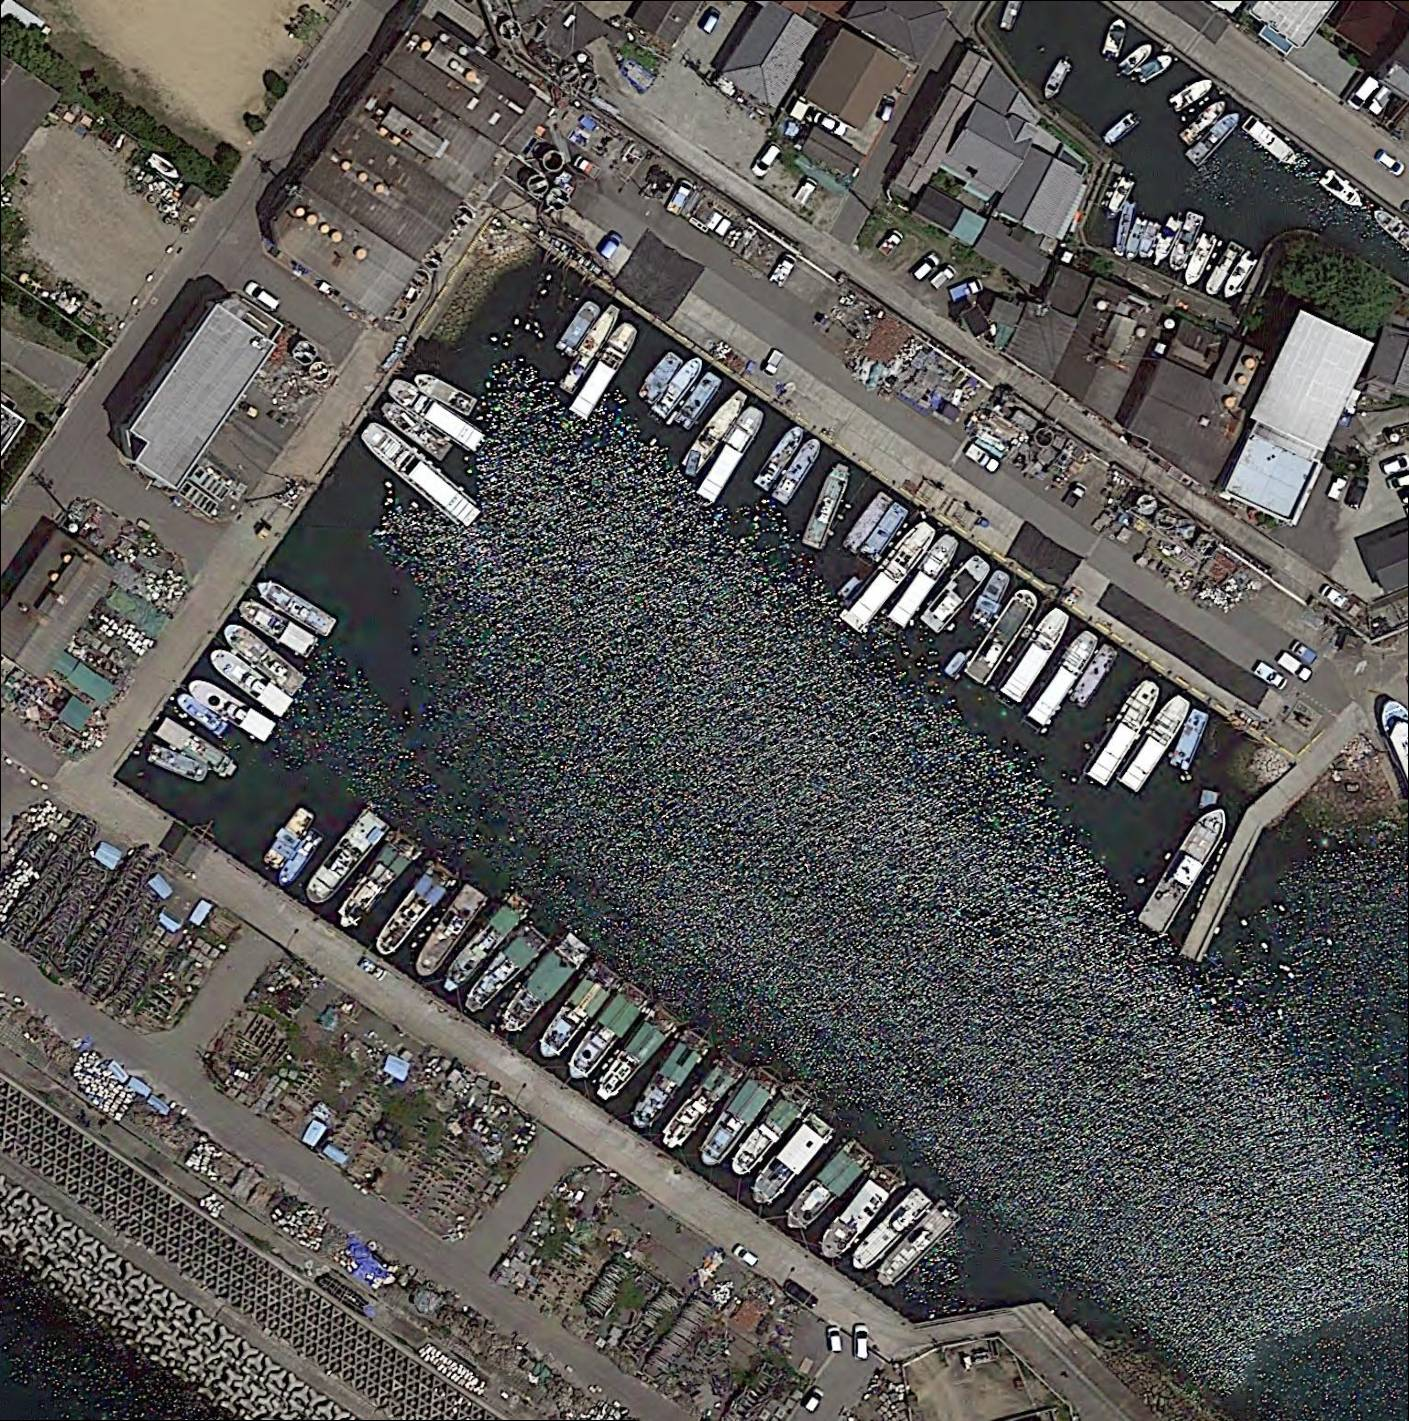ship: (1109, 196, 1263, 299), (1131, 801, 1237, 938), (357, 419, 484, 528), (837, 518, 940, 637), (808, 1160, 908, 1273), (439, 889, 536, 1004), (496, 928, 593, 1041), (775, 1136, 877, 1243), (560, 980, 651, 1091), (623, 1026, 711, 1138), (366, 860, 463, 961), (743, 1111, 839, 1213), (691, 1069, 782, 1176), (532, 958, 621, 1067), (296, 808, 390, 911), (587, 1006, 679, 1111), (656, 1052, 747, 1158), (331, 834, 423, 932), (845, 1185, 937, 1282), (1082, 677, 1161, 787), (726, 1086, 813, 1185), (385, 373, 486, 457), (872, 1199, 963, 1292), (1024, 625, 1103, 732), (463, 925, 550, 1022), (407, 882, 488, 985), (964, 586, 1044, 685), (1116, 691, 1191, 796), (997, 605, 1071, 710), (884, 533, 963, 630), (568, 319, 642, 420), (218, 617, 309, 698), (679, 383, 752, 481), (184, 671, 278, 745), (201, 642, 293, 717), (146, 710, 239, 783), (561, 304, 623, 399), (921, 552, 992, 634), (258, 575, 338, 639), (239, 599, 321, 661), (376, 400, 455, 463), (799, 465, 856, 550), (753, 423, 811, 495), (651, 354, 709, 425), (773, 432, 825, 504), (632, 347, 688, 413), (839, 488, 895, 553), (414, 368, 479, 423), (1067, 642, 1117, 709), (265, 807, 317, 870), (857, 503, 906, 568), (670, 373, 722, 434), (271, 828, 326, 883), (556, 298, 605, 357), (1186, 114, 1241, 166), (1166, 710, 1208, 777), (1244, 117, 1299, 166), (1181, 99, 1226, 145), (1318, 168, 1365, 210), (1163, 76, 1214, 112), (1103, 175, 1138, 219), (1373, 208, 1408, 251), (1043, 58, 1073, 103), (1102, 113, 1141, 146), (1115, 42, 1155, 73), (1134, 53, 1172, 83), (1104, 19, 1126, 56)
small vehicle: (750, 142, 784, 179), (245, 278, 280, 311), (784, 1277, 819, 1308), (910, 252, 943, 284), (965, 446, 1000, 475), (1376, 149, 1407, 178), (773, 256, 797, 286), (733, 1246, 760, 1271), (948, 281, 981, 301), (763, 349, 787, 375), (931, 266, 957, 289), (856, 1324, 870, 1360), (809, 1382, 825, 1412), (602, 235, 621, 259), (701, 10, 720, 33), (829, 1325, 843, 1350), (881, 98, 895, 120)
